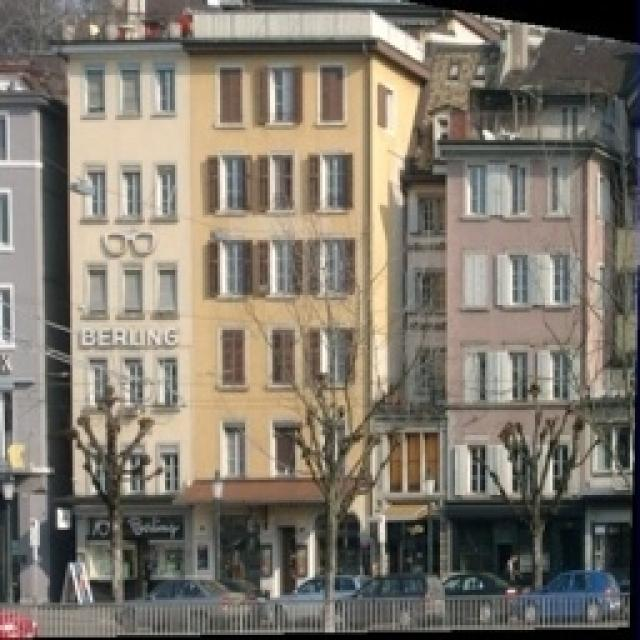building: (65, 0, 393, 618), (397, 20, 640, 605), (0, 57, 65, 640)
